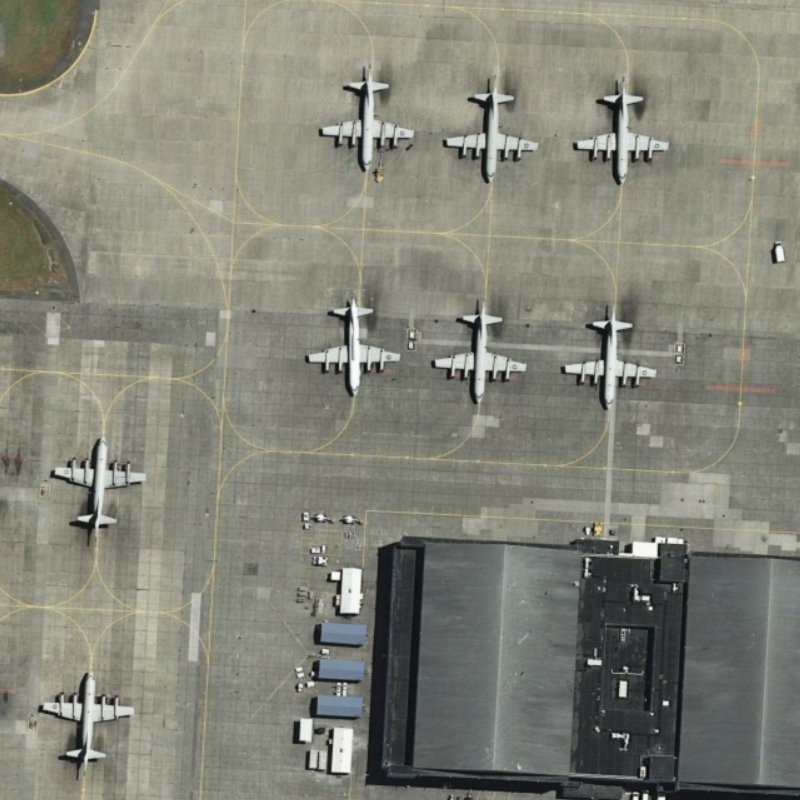A9: (422, 292, 535, 414), (432, 68, 545, 189), (309, 57, 422, 178), (296, 286, 406, 407), (46, 430, 152, 552), (35, 661, 142, 780), (555, 297, 663, 414), (574, 75, 676, 189)
